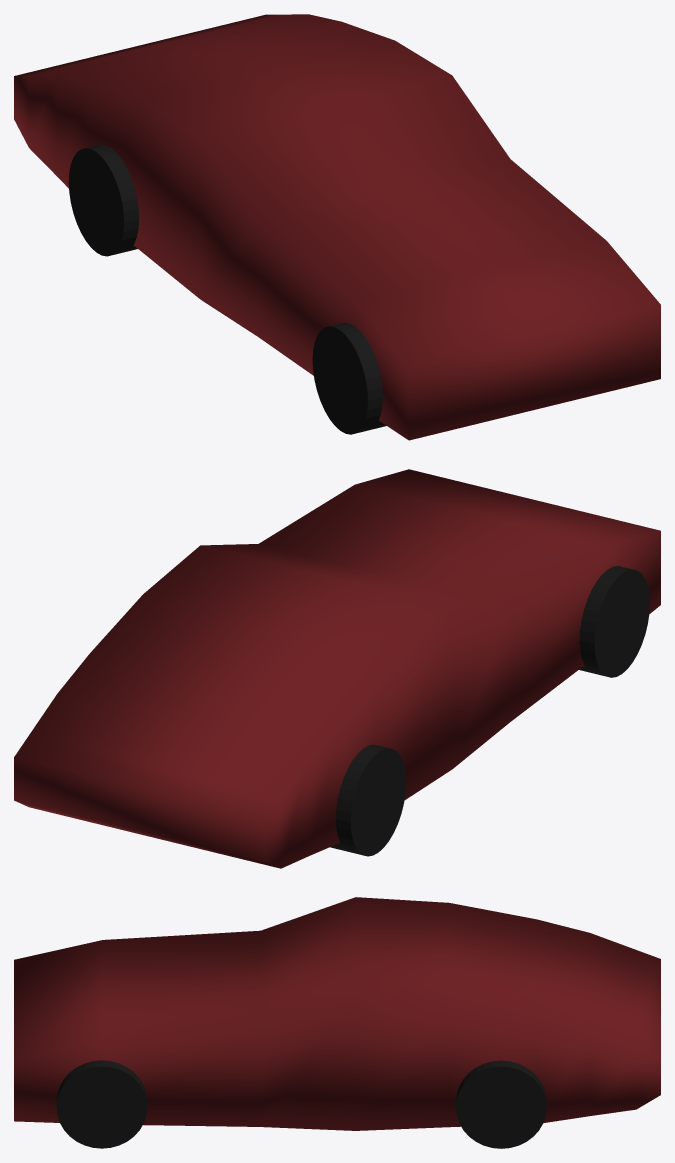
File: newCar.fbx
The picture shows the model from 3 angles, top to bottom: view 1: azimuth 30°, elevation 25°; view 2: azimuth 150°, elevation 25°; view 3: azimuth 270°, elevation 25°; orthographic projection. The views are drawn at different scales.
Visible parts, largest first — view 1: body, wheelFL.001, wheelRL.001; view 2: body, wheelRL.001, wheelFL.001; view 3: body, wheelFL, wheelRL.
Boxes of the visible parts, x1,y1,x2,y2 form: body: (14,14,660,440); wheelFL.001: (312,322,386,434); wheelRL.001: (68,144,139,256); body: (14,469,660,868); wheelRL.001: (330,744,406,856); wheelFL.001: (579,566,649,677); body: (14,897,660,1130); wheelFL: (56,1060,147,1148); wheelRL: (456,1060,546,1148).
Size of the model in its own units: 2.35 by 1.41 by 5.7.
